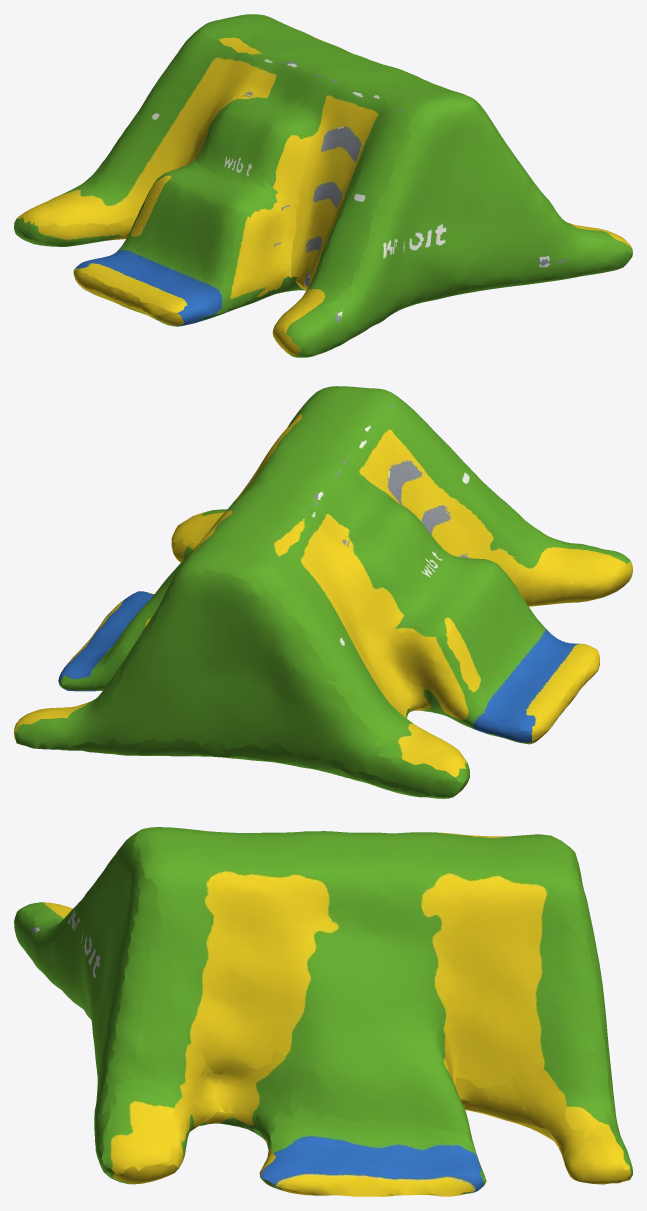
File: overclimb.glb
The picture shows the model from 3 angles, top to bottom: view 1: azimuth 30°, elevation 25°; view 2: azimuth 150°, elevation 25°; view 3: azimuth 270°, elevation 25°; orthographic projection. The views are drawn at different scales.
Visible parts, largest first — view 1: geometry_0; view 2: geometry_0; view 3: geometry_0.
Part boxes in pixels (x1,y1,x2,y2): geometry_0: [14, 14, 632, 357]; geometry_0: [14, 386, 632, 798]; geometry_0: [14, 827, 632, 1196].
Bounding box in the file's own units: 1.05 × 0.4901 × 1.04.
1 material, 1 textured.
